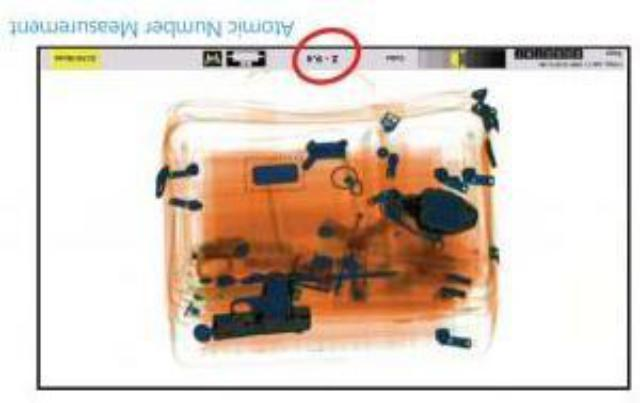Gun: (188, 267, 310, 338)
